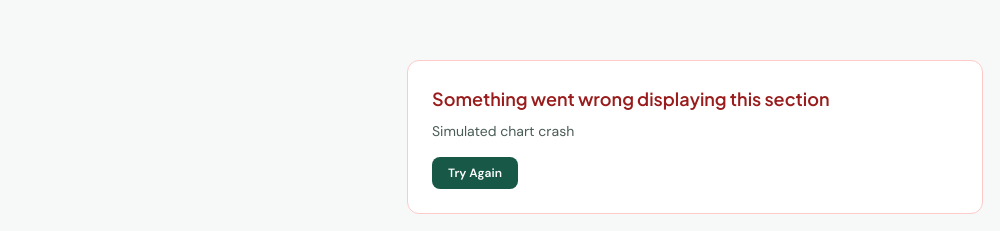
Test: VinterKlar UI Components & Accessibility › ErrorBoundary catches rendering failures and recovers when Try Again is clicked
This screenshot has width=1000, height=231.
Expected: the message shows "Simulated chart crash", [432,122,574,140]
Click the button "Try Again".
click(475, 173)  # box [432,157,518,189]
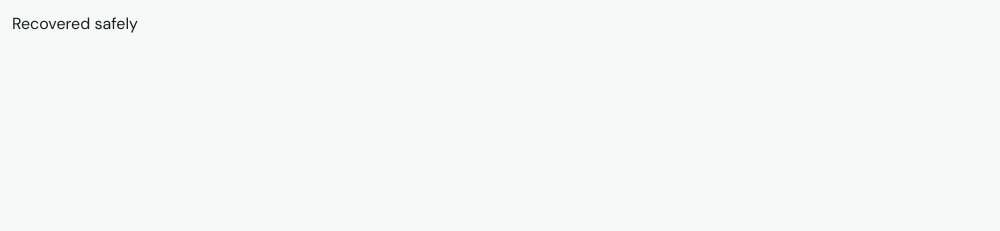
Result: the text "Recovered safely" is shown at [12,13,138,34]
